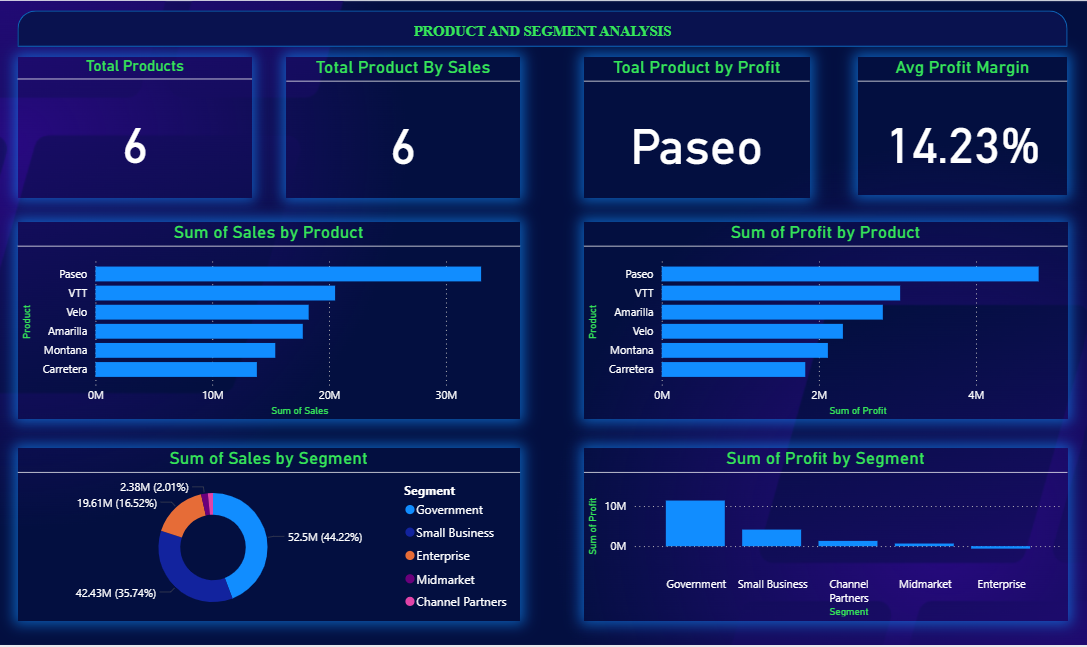

The dashboard page shown, as its layout file describes it:
{"tool":"powerbi","page":{"name":"Product And Segment Analysis","canvas":[1280,720],"ordinal":2},"visuals":[{"type":"card","title":"Total Products","fields":{"Values":["DAX Measures.Total Products"]},"box":[57.6,70,258,155.1],"z":0},{"type":"card","title":"Total Product By Sales","fields":{"Values":["DAX Measures.Total Products by Sales"]},"box":[352.7,70,256.6,155.1],"z":1000},{"type":"card","title":"Toal Product by Profit","fields":{"Values":["DAX Measures.Top Product by Profit"]},"box":[679.2,70,248.4,155.1],"z":2000},{"type":"card","title":"Avg Profit Margin","fields":{"Values":["DAX Measures.Average Profit Margin"]},"box":[979.8,70,230.5,152.3],"z":3000},{"type":"clusteredBarChart","fields":{"Category":["Financials.Product"],"Y":["Sum(Financials. Sales)"]},"box":[57.6,251.1,551.6,216.8],"z":4000},{"type":"clusteredBarChart","fields":{"Y":["Sum(Financials.Profit)"],"Category":["Financials.Product"]},"box":[679.2,251.1,531,216.8],"z":5000},{"type":"donutChart","fields":{"Category":["Financials.Segment"],"Y":["Sum(Financials. Sales)"]},"box":[57.6,499.5,551.6,189.4],"z":6000},{"type":"clusteredColumnChart","fields":{"Category":["Financials.Segment"],"Y":["Sum(Financials.Profit)"]},"box":[679.2,499.5,531,189.4],"z":7000},{"type":"shape","box":[57.6,19.2,1152.7,39.8],"z":8000}]}

Visuals, with their boxes on the page's 1280x720 design canvas (x1, y1, x2, y2). These are canvas units, not pixel positions in the 1087x647 screenshot, which may show the page scaled, cropped or inside an application window:
"Total Products" card: {"left": 58, "top": 70, "right": 316, "bottom": 225}
"Total Product By Sales" card: {"left": 353, "top": 70, "right": 609, "bottom": 225}
"Toal Product by Profit" card: {"left": 679, "top": 70, "right": 928, "bottom": 225}
"Avg Profit Margin" card: {"left": 980, "top": 70, "right": 1210, "bottom": 222}
clusteredBarChart - Financials.Product x Sum(Financials. Sales): {"left": 58, "top": 251, "right": 609, "bottom": 468}
clusteredBarChart - Sum(Financials.Profit) x Financials.Product: {"left": 679, "top": 251, "right": 1210, "bottom": 468}
donutChart - Financials.Segment x Sum(Financials. Sales): {"left": 58, "top": 500, "right": 609, "bottom": 689}
clusteredColumnChart - Financials.Segment x Sum(Financials.Profit): {"left": 679, "top": 500, "right": 1210, "bottom": 689}
shape: {"left": 58, "top": 19, "right": 1210, "bottom": 59}
